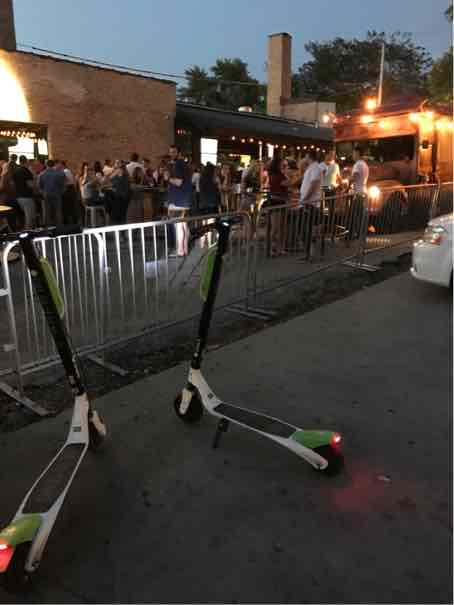scooter: (162, 208, 346, 486)
